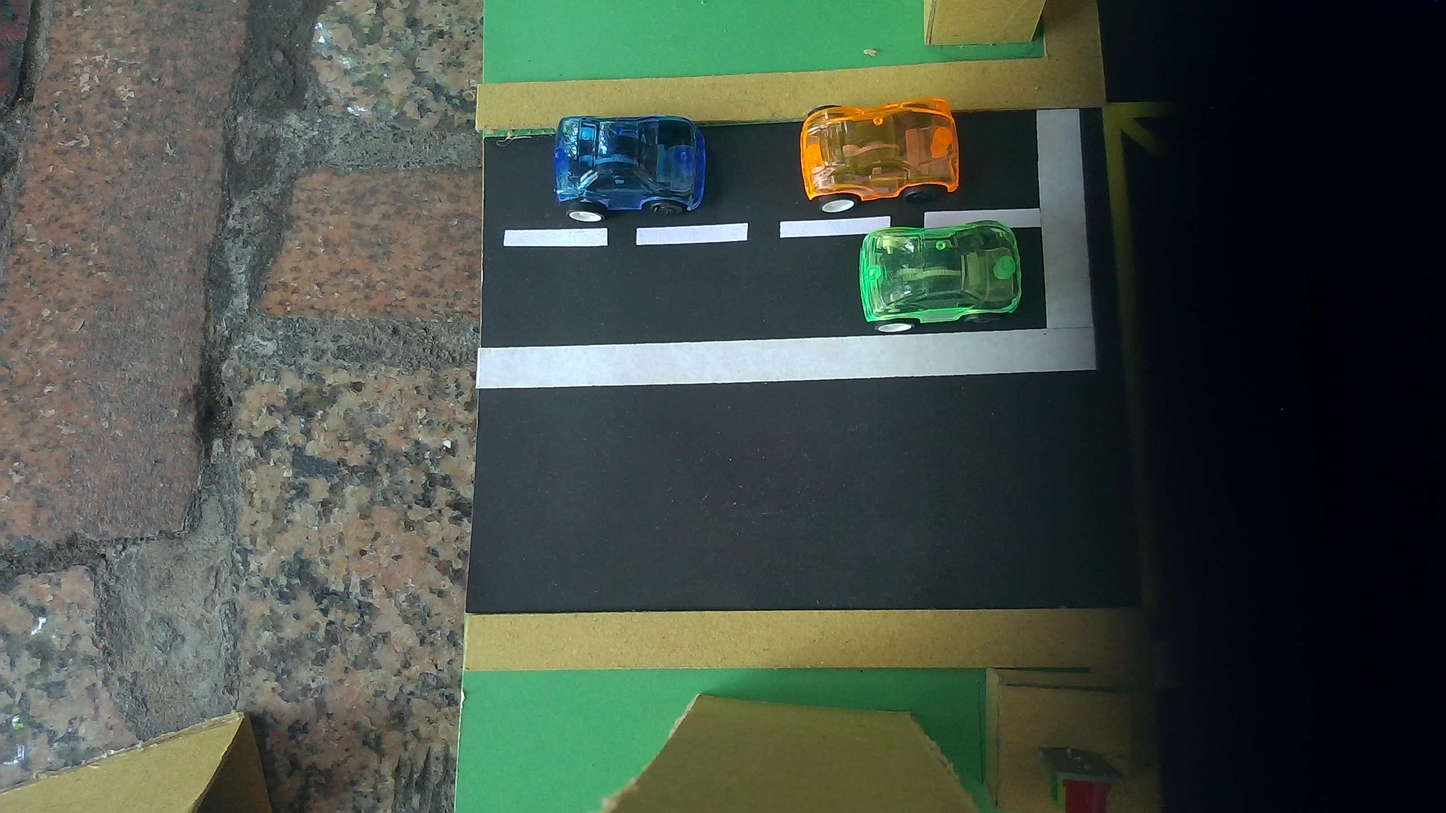Mobil biru: (552, 115, 706, 222)
Mobil hijau: (859, 221, 1021, 331)
Mobil orange: (799, 99, 960, 213)
